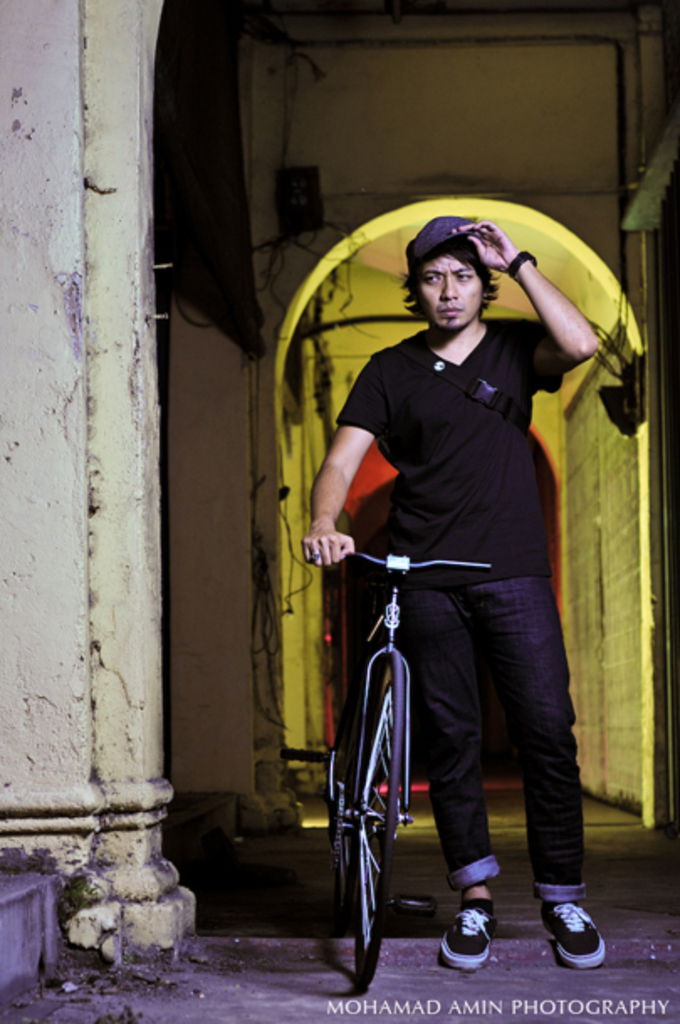Bike: (296, 538, 499, 1002)
